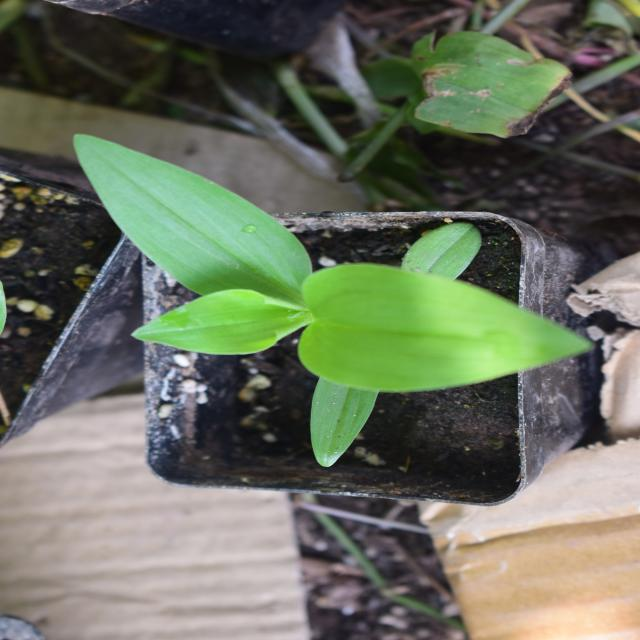Common Dayflower: (238, 50, 494, 562)
